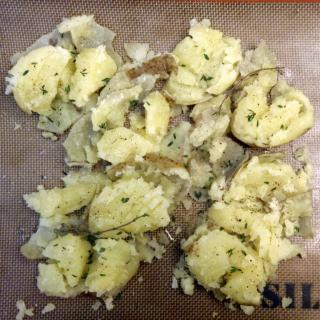Potato: (4, 14, 315, 316)
